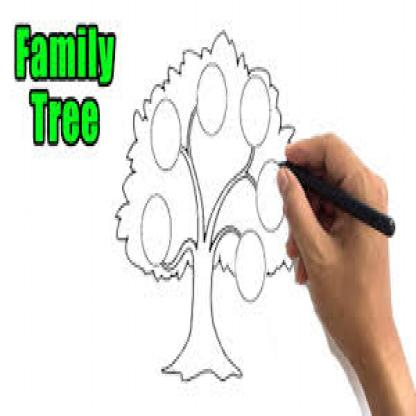branch_sharp: (166, 108, 260, 270)
crown_cloud: (116, 34, 303, 280)
trunk_straight: (189, 287, 219, 337)
